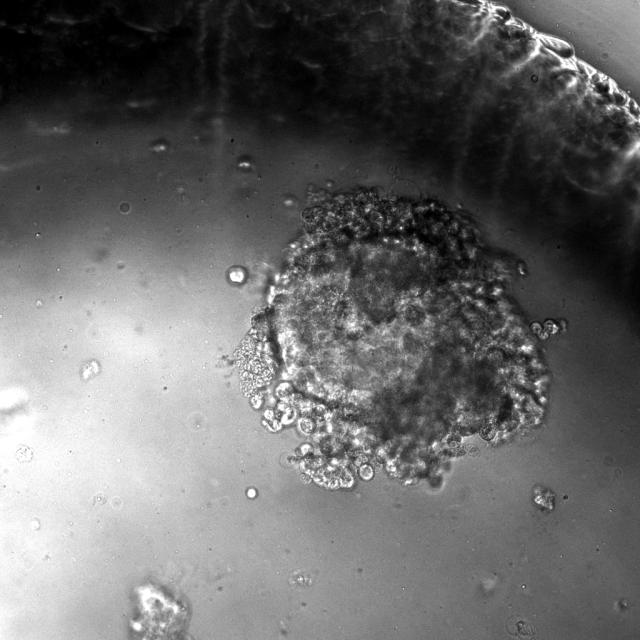organoid: (233, 186, 567, 490), (129, 583, 189, 639), (532, 484, 555, 512), (79, 359, 101, 381), (226, 265, 248, 286), (16, 444, 33, 463), (245, 486, 258, 498)
